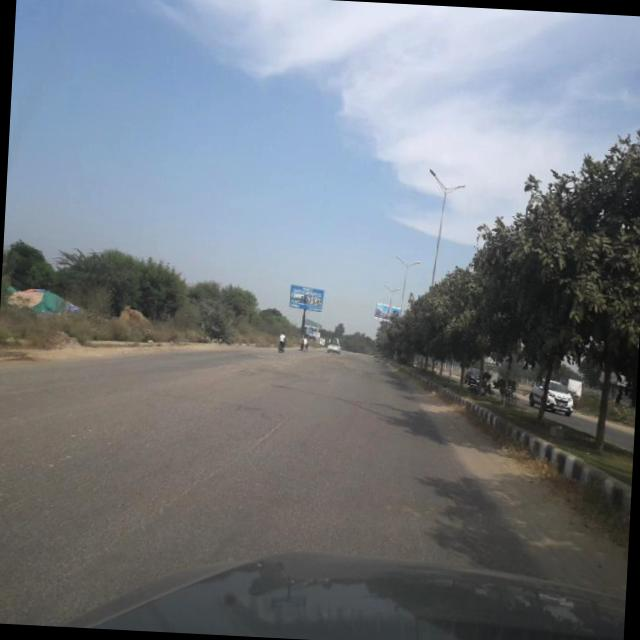crack: (0, 393, 447, 638)
pothole: (77, 365, 330, 577)
